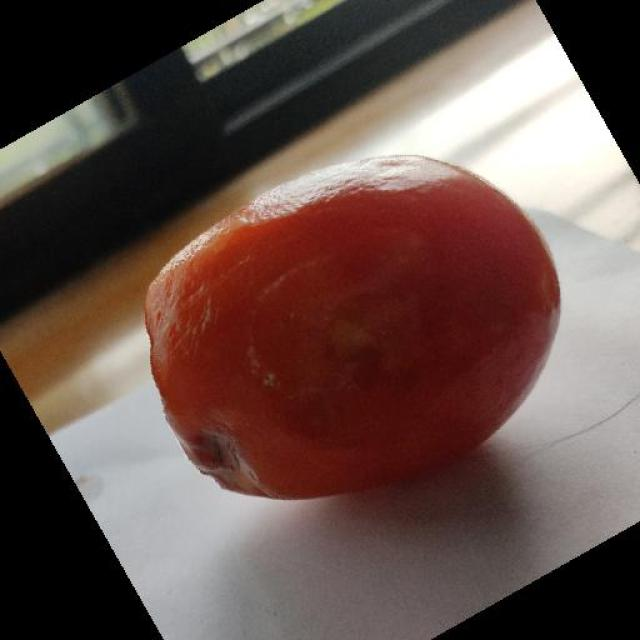Stale_tomato: (162, 162, 532, 460)
